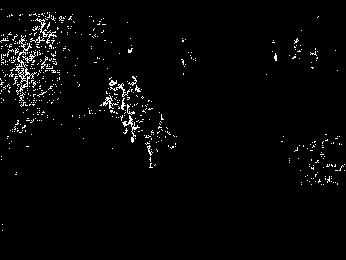person: (136, 95, 178, 168), (126, 75, 142, 139), (103, 74, 123, 121)
